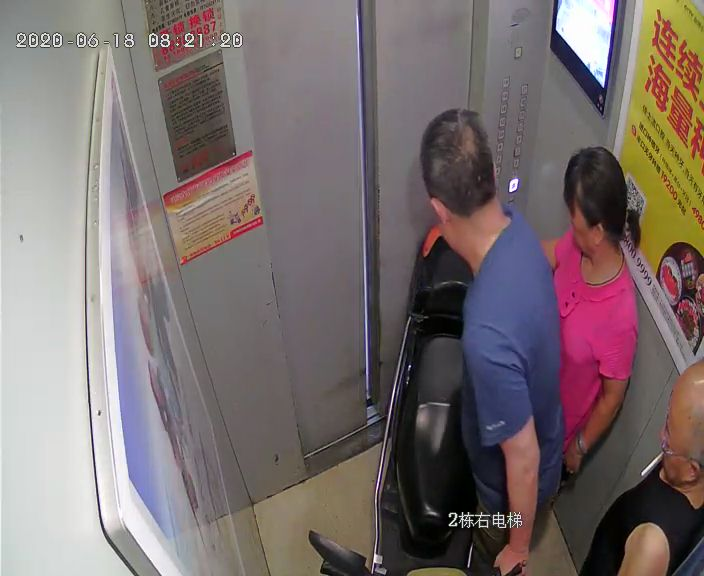Electric-bicycle: (310, 228, 514, 570)
